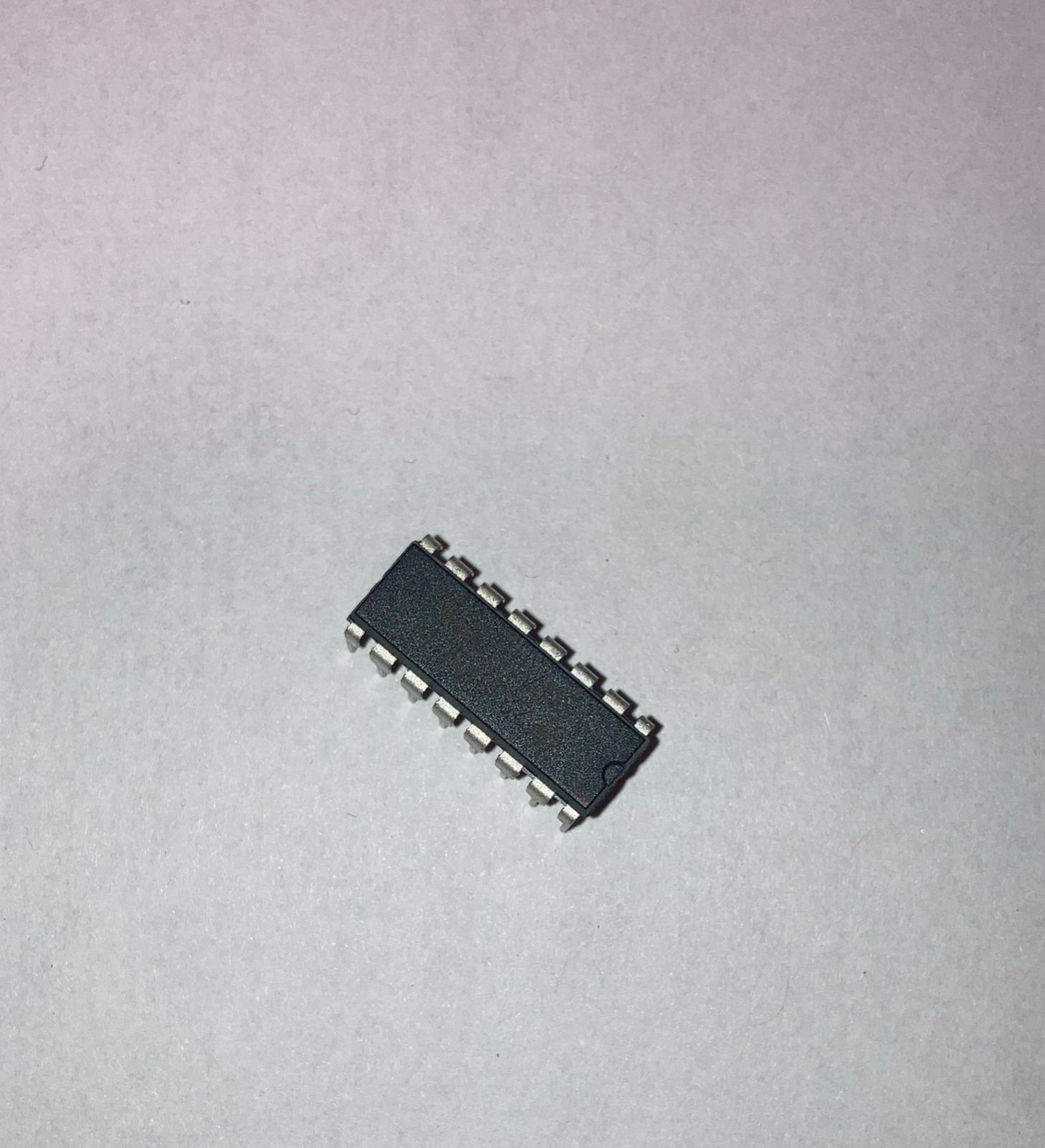IC: (326, 527, 666, 842)
notch: (600, 760, 629, 788)
